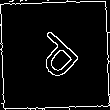P_SE: (24, 24, 86, 86)
